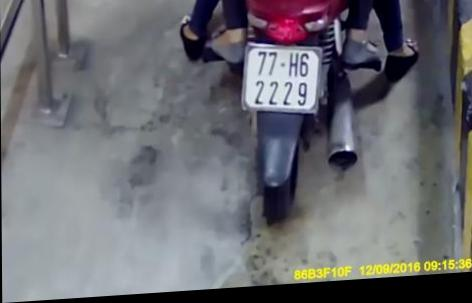License_Plate: (235, 32, 330, 126)
